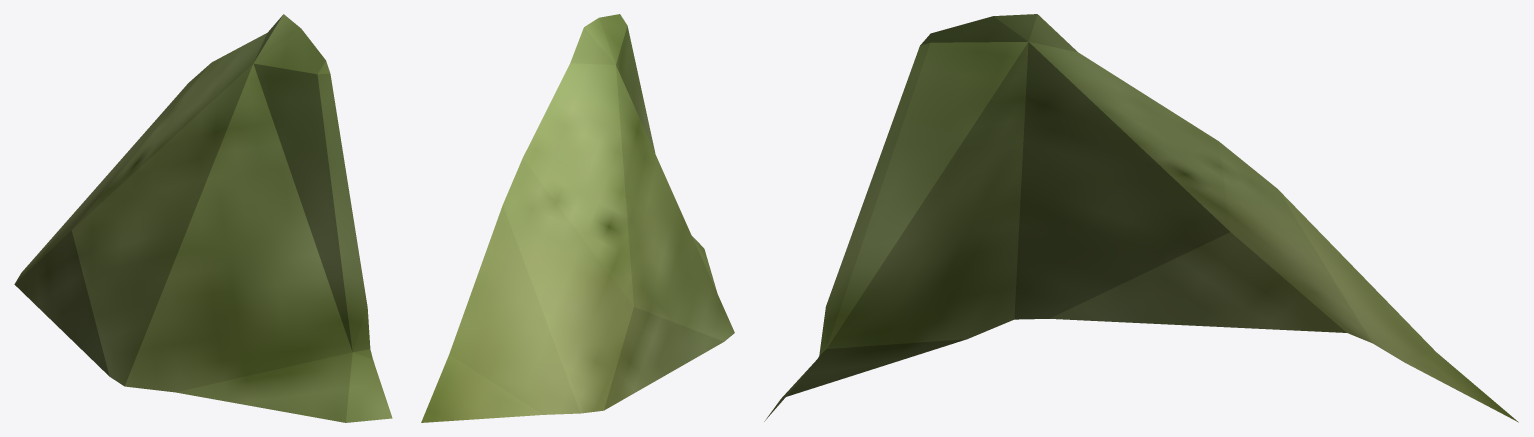
The picture shows the model from 3 angles, left to right: view 1: azimuth 30°, elevation 25°; view 2: azimuth 150°, elevation 25°; view 3: azimuth 270°, elevation 25°; orthographic projection. The views are drawn at different scales.
Size of the model in its own units: 0.0976 by 0.1788 by 0.2996.
1 material, 1 textured.
